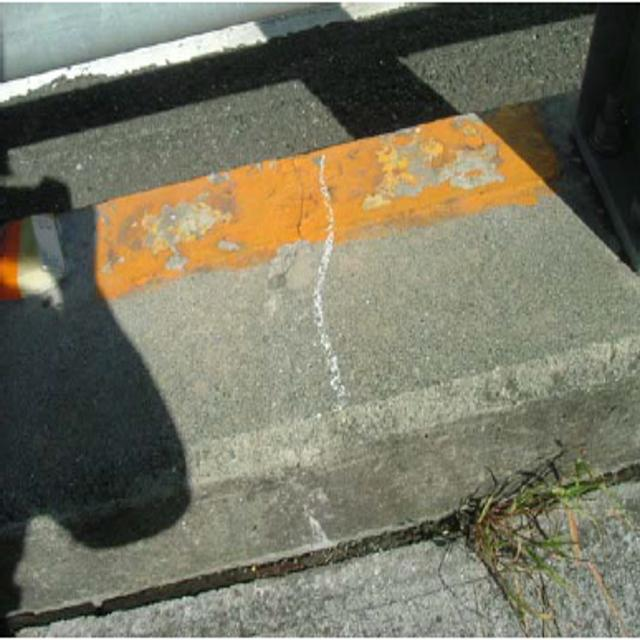crack: (271, 151, 336, 286)
